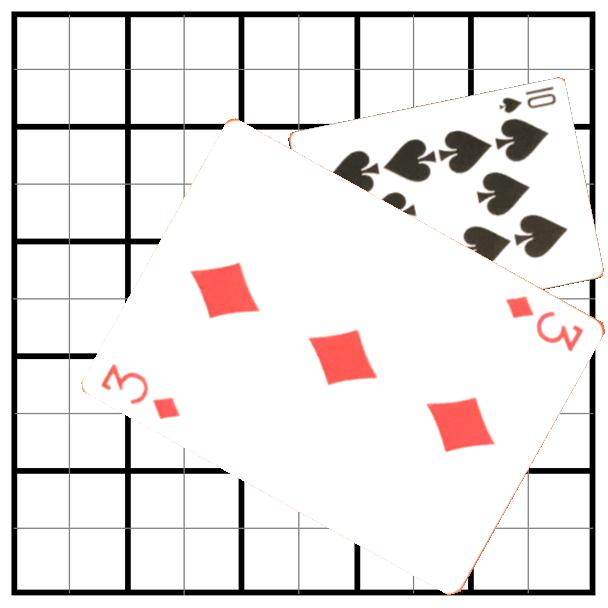d03: (98, 359, 184, 423), (502, 291, 587, 355)
s10: (495, 83, 559, 117)
